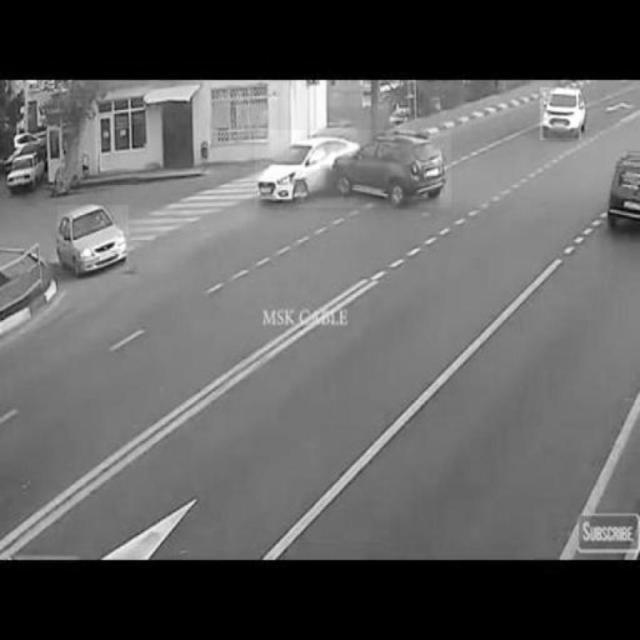accident: (256, 130, 452, 207)
vehicle: (58, 206, 129, 273), (540, 88, 581, 140)
